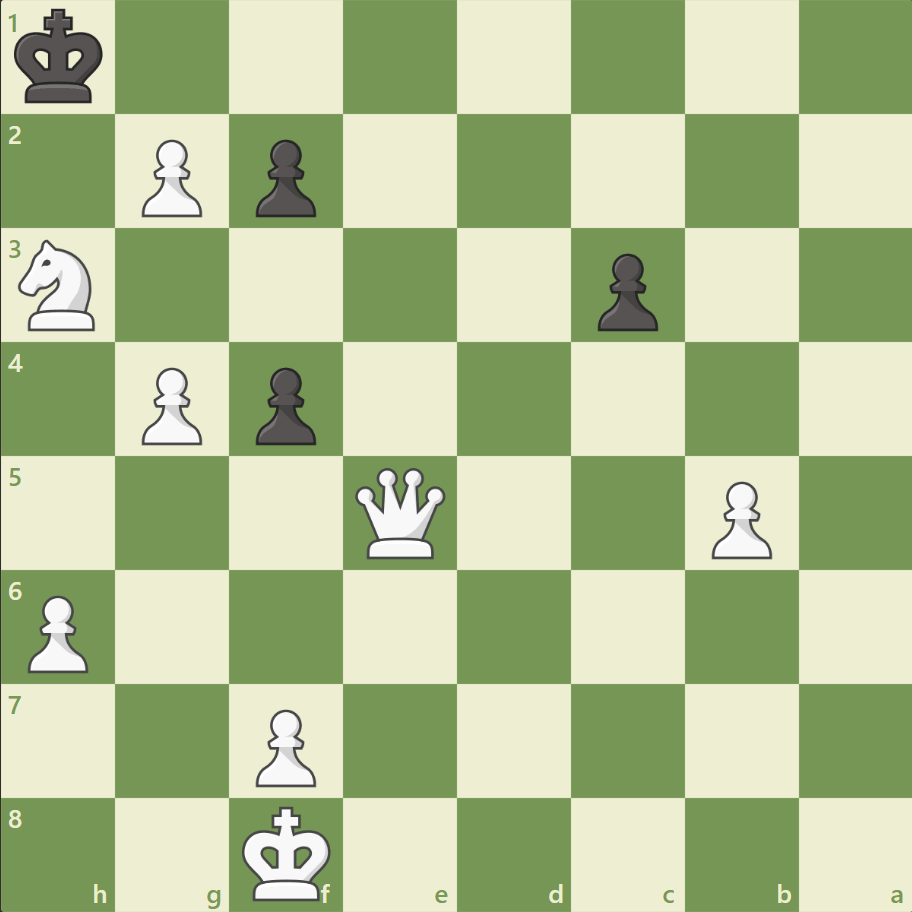K: (238, 798, 338, 906)
N: (11, 234, 108, 337)
P: (247, 700, 322, 791), (20, 586, 95, 677), (701, 473, 776, 564), (133, 359, 208, 450), (133, 132, 208, 223)
Q: (351, 463, 450, 562)
k: (11, 4, 111, 112)
p: (247, 359, 322, 450), (247, 132, 322, 223), (588, 246, 662, 337)
